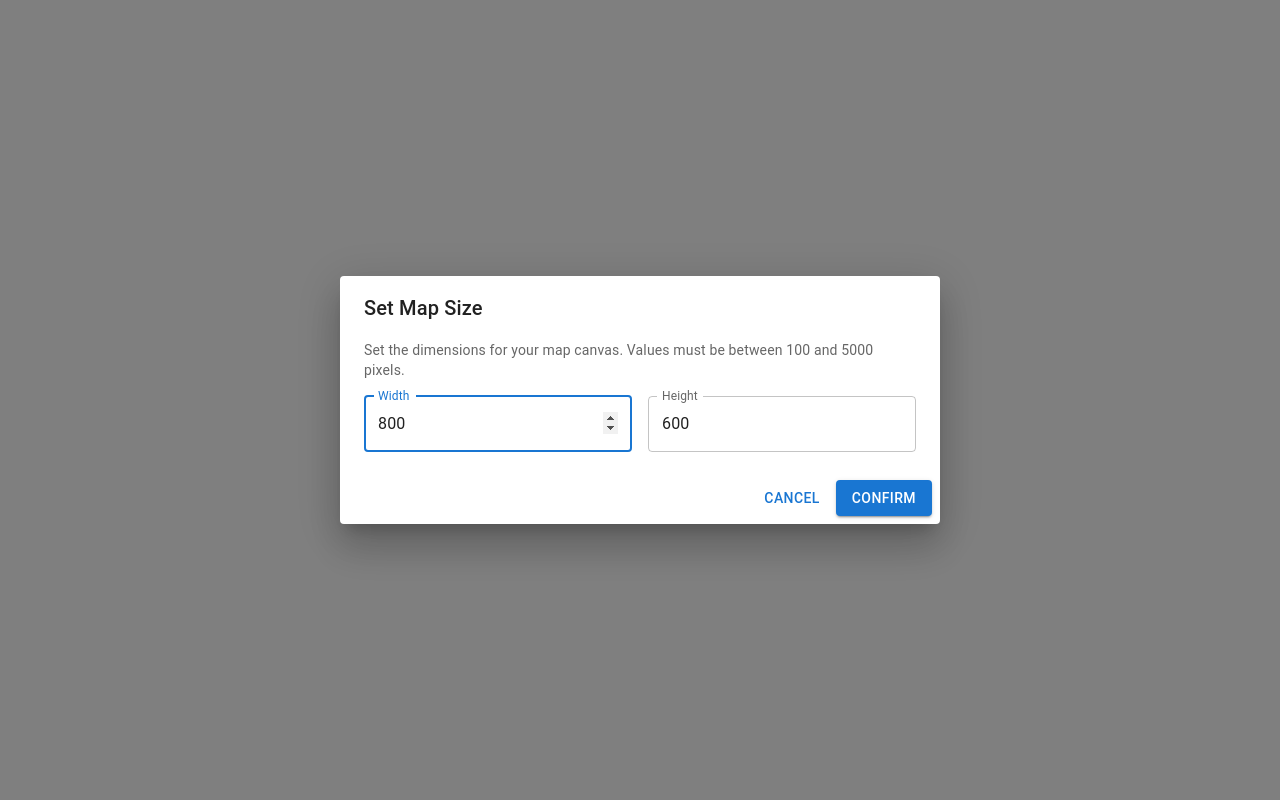
Test case: MapSizeDialog › validates size inputs and shows errors
Test invalid width
Replace the text in the number field labelled "Width" with "50" at [498, 424], box [364,396,632,452]
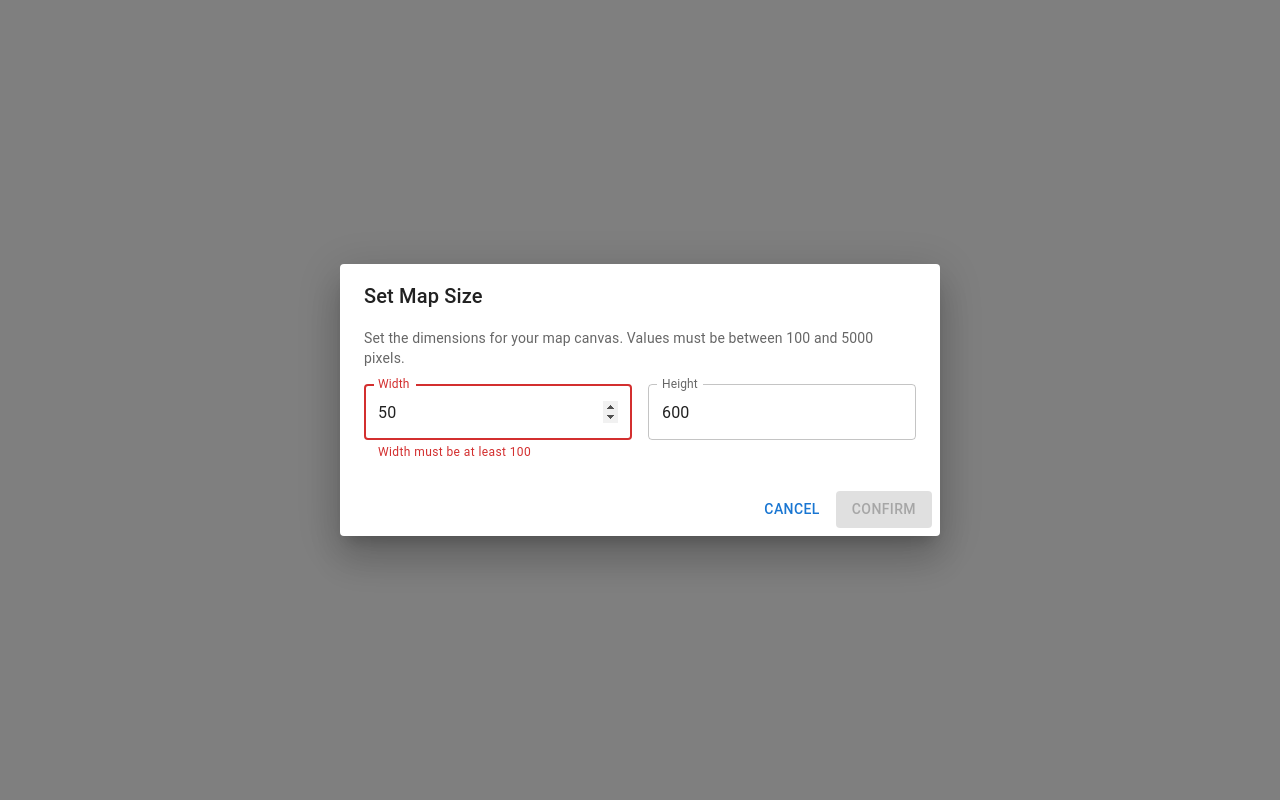
Check: the text "Width must be at least 100" is shown, box [378,445,531,459]
Test invalid height
Replace the text in the number field labelled "Height" with "6000" at [782, 412], box [648,384,916,440]
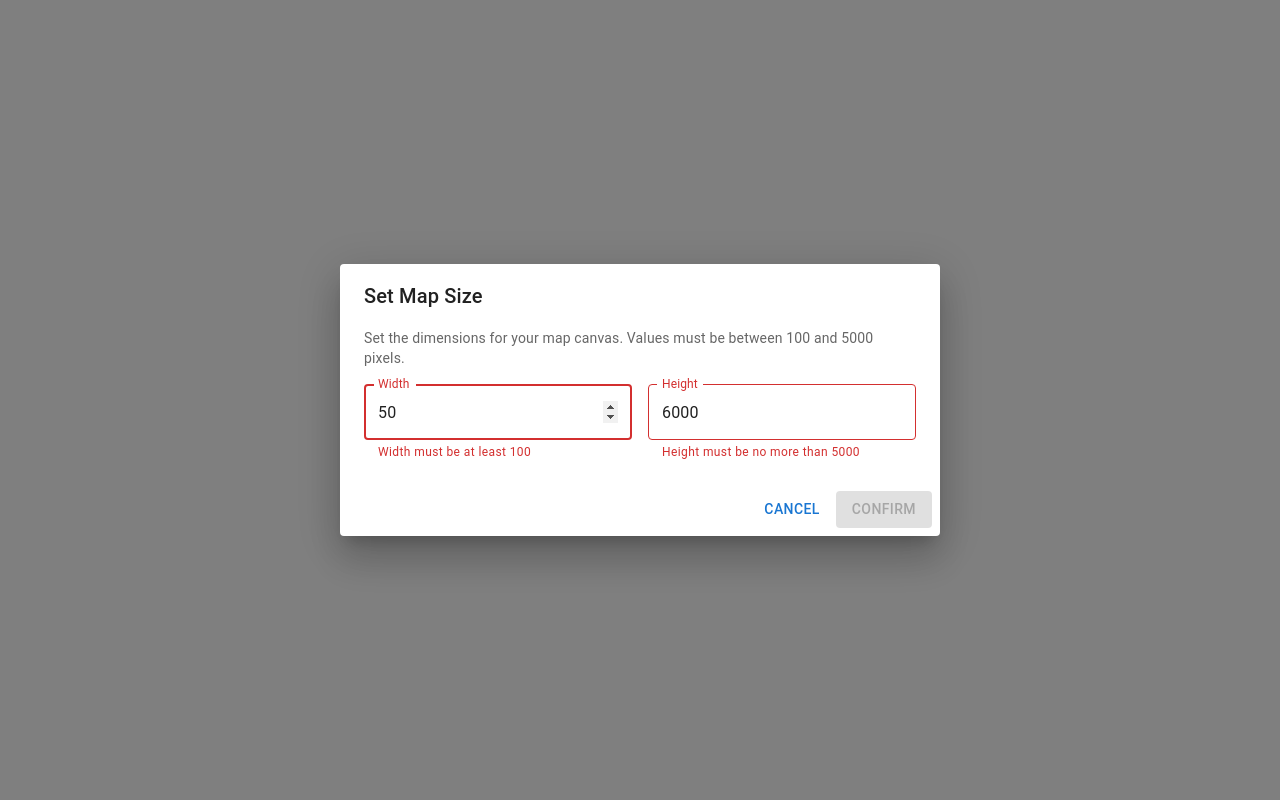
Check: the text "Height must be no more than 5000" is shown, box [662,445,860,459]
